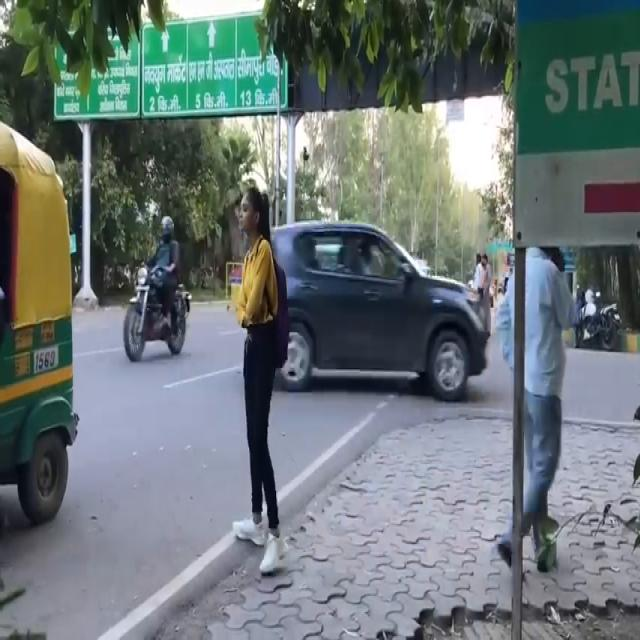MOTORCYCLE: (126, 262, 195, 372)
SUV: (260, 212, 487, 403)
